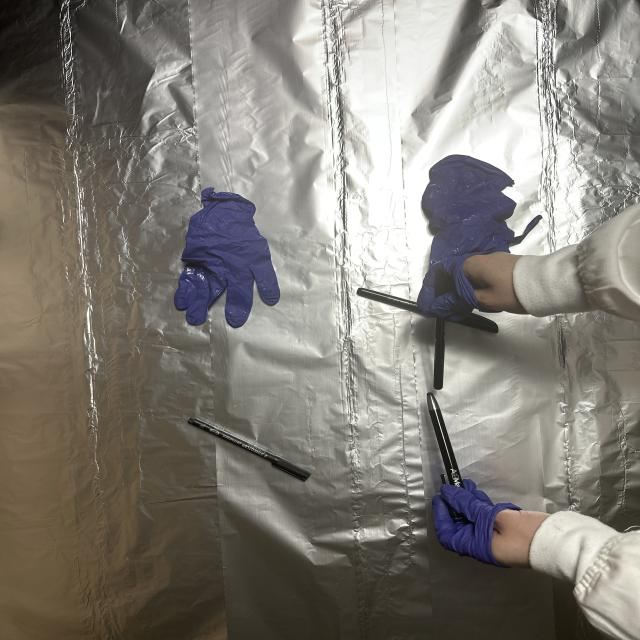glove_partial: (424, 478, 552, 566), (412, 250, 540, 321)
